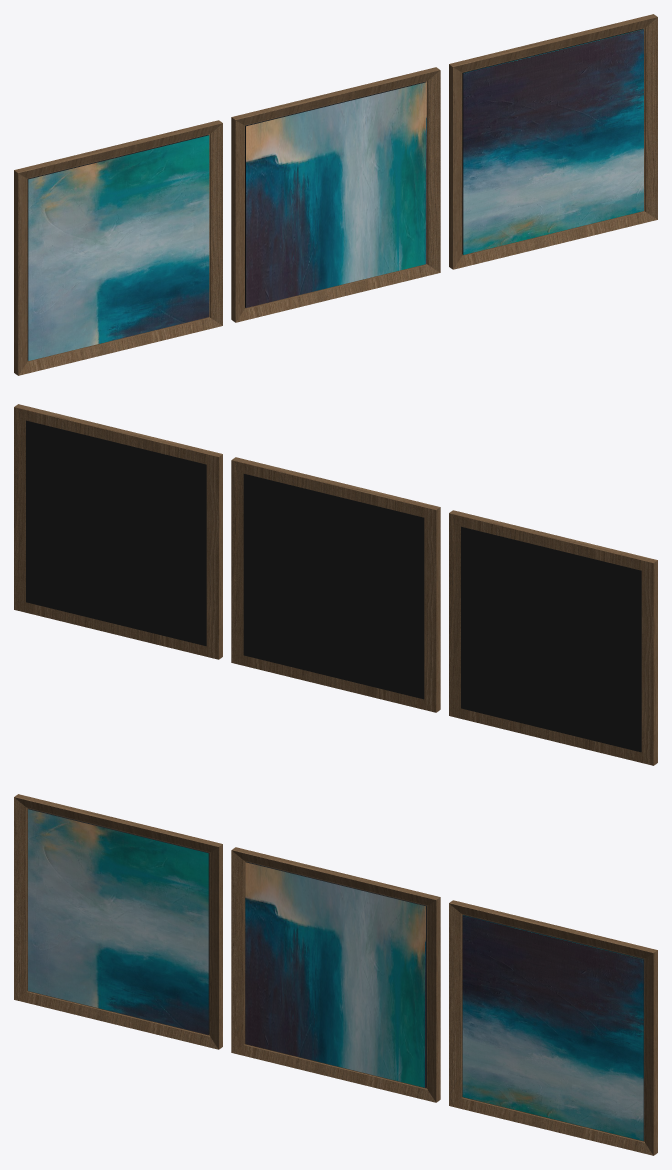
File: Cuadro.fbx
The picture shows the model from 3 angles, top to bottom: view 1: azimuth 30°, elevation 25°; view 2: azimuth 150°, elevation 25°; view 3: azimuth 330°, elevation 25°; orthographic projection.
Parts seen in each view (by area): view 1: Group8, Group9, Group10, Group5, Group7, Group3; view 2: Group9, Group8, Group10, Group5, Group7, Group3; view 3: Group10, Group8, Group9, Group5, Group3, Group7.
Boxes of the visible parts, x1,y1,x2,y2 form: Group8: [27, 134, 209, 360]; Group9: [245, 81, 426, 307]; Group10: [462, 28, 643, 254]; Group5: [231, 67, 440, 322]; Group7: [14, 120, 222, 375]; Group3: [449, 14, 657, 269]; Group9: [243, 474, 424, 699]; Group8: [461, 526, 641, 752]; Group10: [26, 420, 206, 646]; Group5: [231, 457, 440, 712]; Group7: [449, 510, 657, 765]; Group3: [14, 404, 222, 659]; Group10: [462, 914, 644, 1140]; Group8: [28, 808, 209, 1034]; Group9: [245, 861, 426, 1087]; Group5: [231, 847, 440, 1102]; Group3: [449, 900, 657, 1155]; Group7: [14, 794, 222, 1049].
Bounding box in the file's own units: 156 × 47.24 × 1.79.
